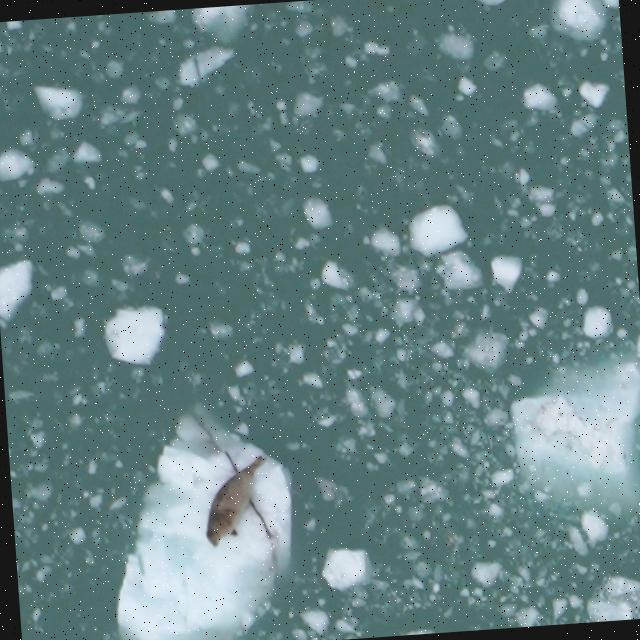seal: (194, 447, 278, 552)
